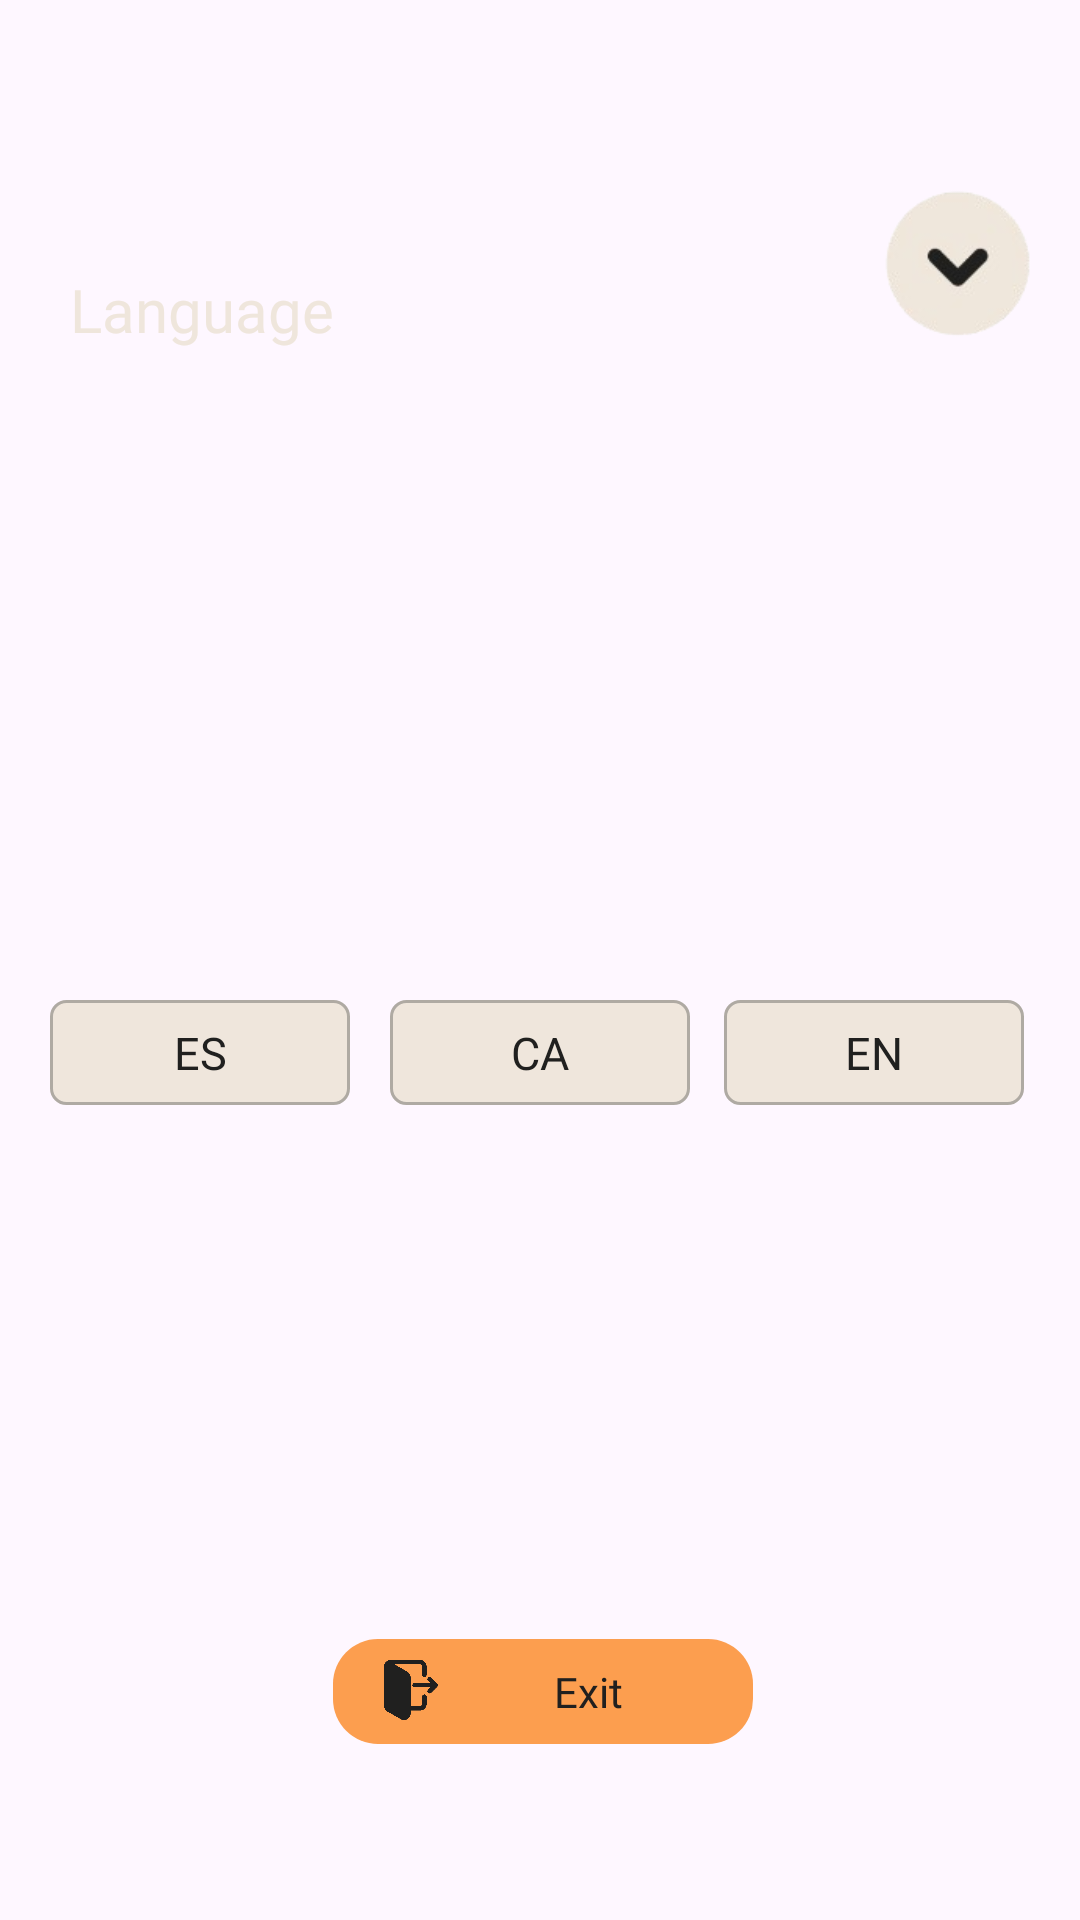

Icons on this 1080px×1920px Android screen, each with its box as (x1, y1, x2, y2):
log out: (384, 1660, 438, 1720)
